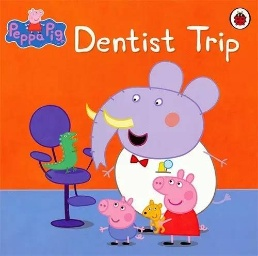Peppa: (151, 167, 210, 247)
